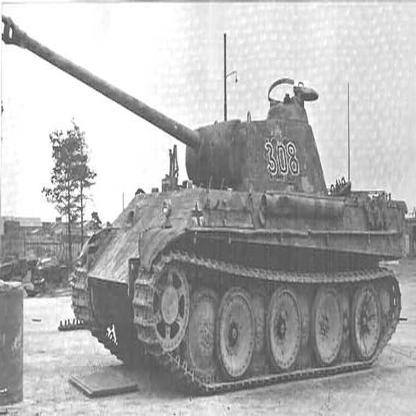Tank: (1, 13, 416, 391)
